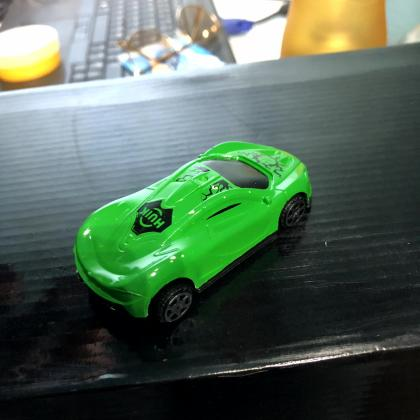Car: (66, 134, 318, 330)
